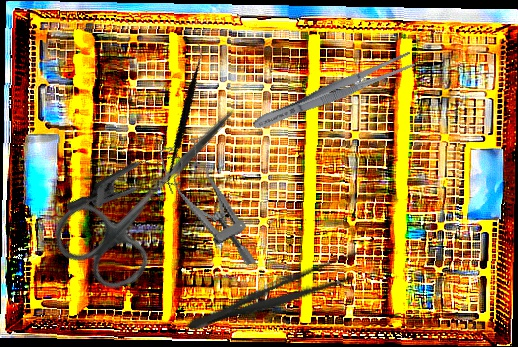Dressing Forceps: (181, 246, 369, 342), (250, 48, 417, 136)
Iris Scissors: (43, 73, 268, 304)
Spatula Surgical: (127, 41, 244, 195)
Speculum: (65, 121, 198, 258), (156, 131, 259, 281)
